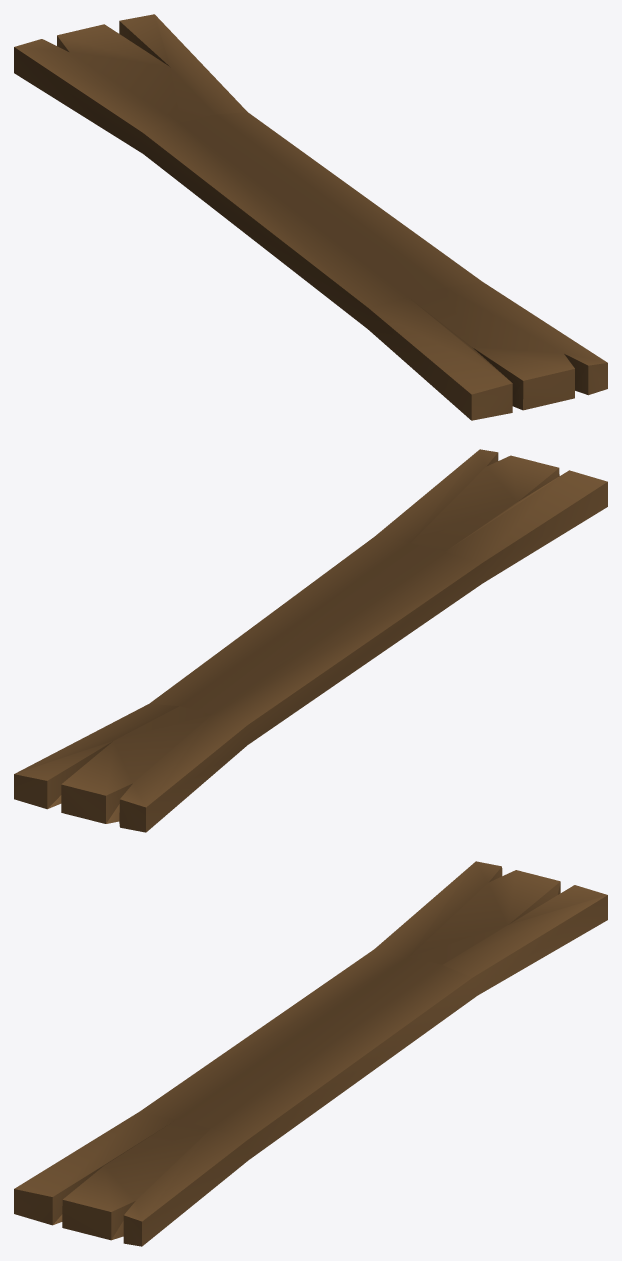
File: obj_woodPiece_B_LOW.FBX
3 renders of one model, top to bottom at view 1: azimuth 30°, elevation 25°; view 2: azimuth 150°, elevation 25°; view 3: azimuth 330°, elevation 25°, orthographic. The views are drawn at different scales.
Parts seen in each view (by area): view 1: obj_woodPiece_B_LOW; view 2: obj_woodPiece_B_LOW; view 3: obj_woodPiece_B_LOW.
Boxes of the visible parts, x1,y1,x2,y2 form: obj_woodPiece_B_LOW: (14,14,607,420); obj_woodPiece_B_LOW: (14,449,607,832); obj_woodPiece_B_LOW: (14,861,607,1246).
Bounding box in the file's own units: 0.8842 × 0.1706 × 4.77.
